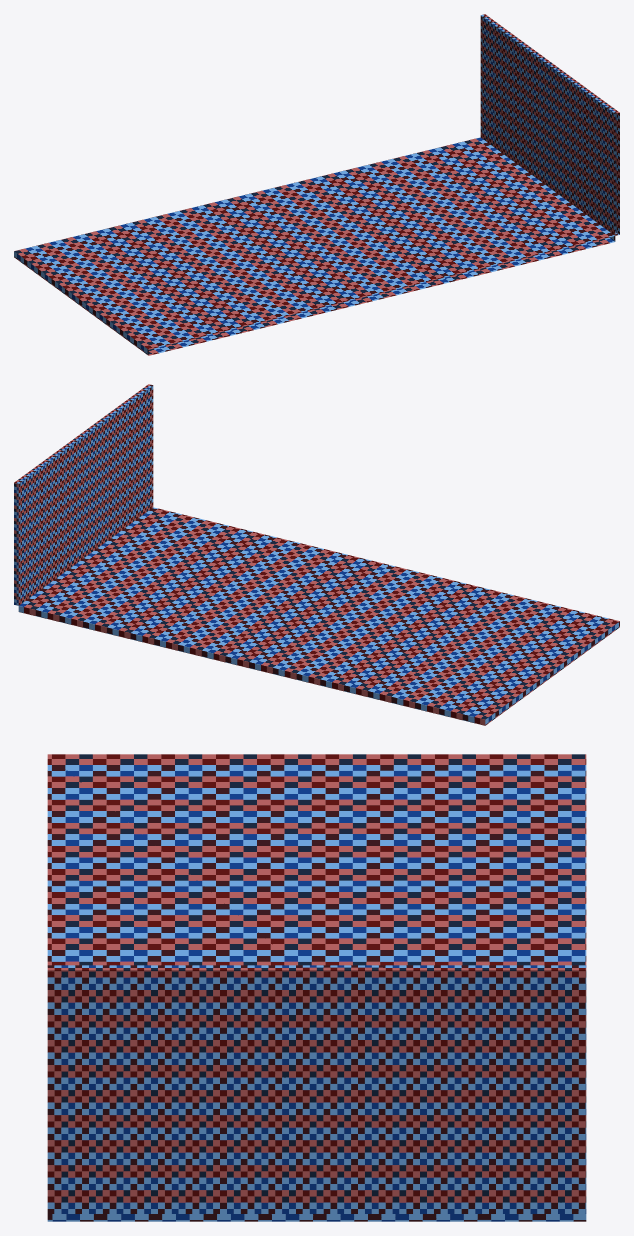
File: Large_catWalkHalf_Onerail_01.fbx
3 renders of one model, top to bottom at view 1: azimuth 30°, elevation 25°; view 2: azimuth 150°, elevation 25°; view 3: azimuth 270°, elevation 25°, orthographic. The views are drawn at different scales.
Visible parts, largest first — view 1: Large_catWalkHalf_Onerail_01; view 2: Large_catWalkHalf_Onerail_01; view 3: Large_catWalkHalf_Onerail_01.
Boxes of the visible parts, box(x1,y1,x2,y2) form: Large_catWalkHalf_Onerail_01: box(14, 14, 619, 355); Large_catWalkHalf_Onerail_01: box(14, 384, 619, 725); Large_catWalkHalf_Onerail_01: box(47, 754, 586, 1221).
Size of the model in its own units: 404 by 105 by 200.
1 material, 1 textured.
